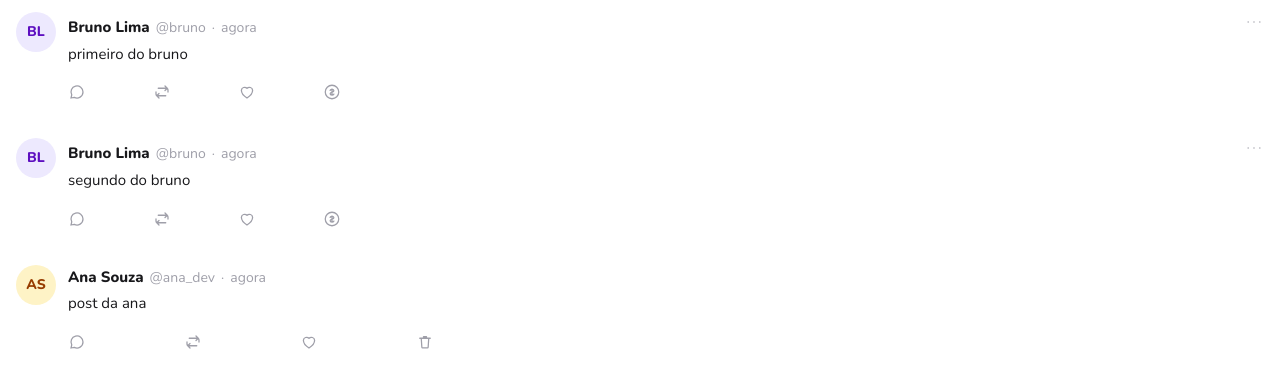
it: moderação no feed › silenciar some com os posts da pessoa e deixa um aviso com "Desfazer"
Expected: the text "primeiro do bruno" is shown, [68, 44, 188, 64]
Click the 1st button named "Mais opções": (1254,22) [1236, 4, 1272, 40]
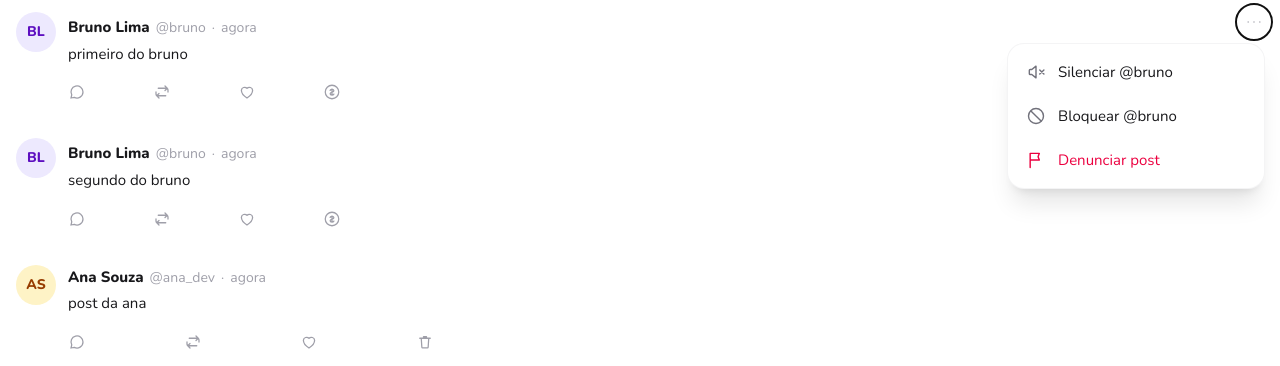
Click the menu item "Silenciar @bruno": (1136,72) [1014, 50, 1258, 94]
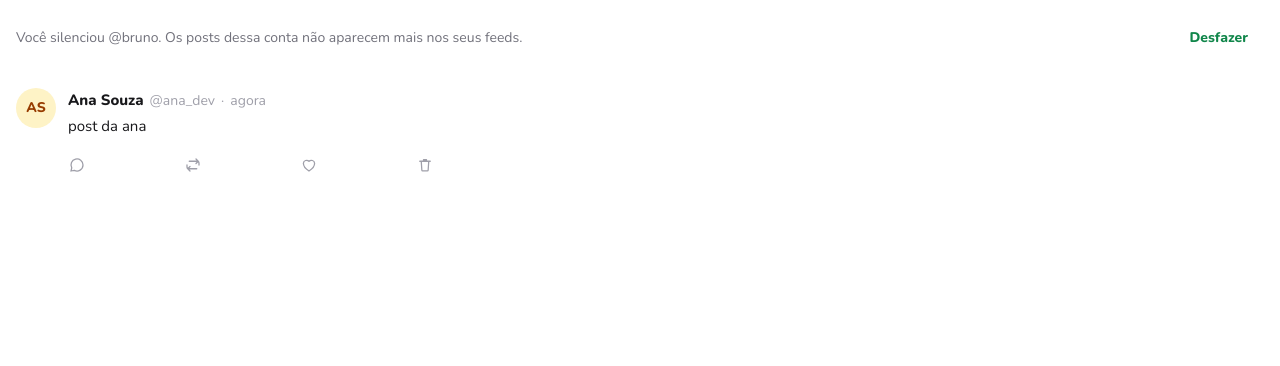
Expected: the text "post da ana" is shown, [68, 116, 146, 136]
Expected: the text "Você silenciou @bruno" is shown, [16, 28, 522, 47]
Expected: the text "segundo do bruno" is gone
Click the button "Desfazer": (1219,38) [1173, 16, 1264, 60]
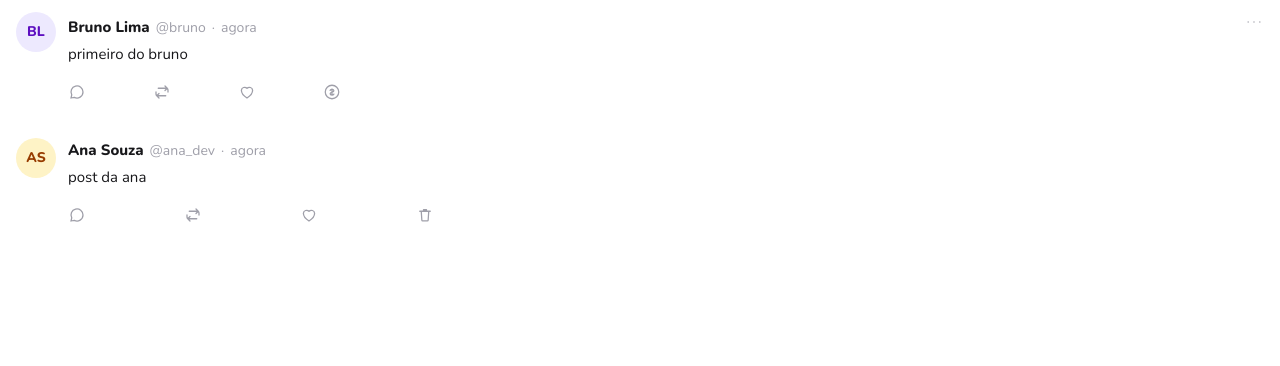
Expected: the text "primeiro do bruno" is shown, [68, 44, 188, 64]
